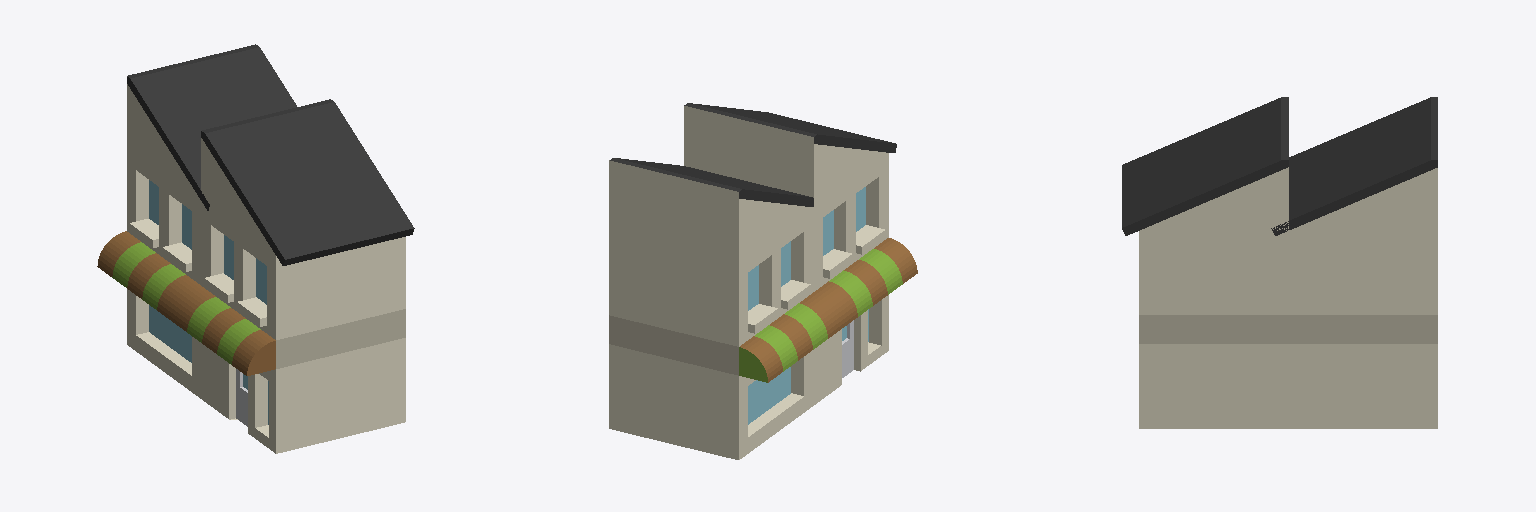
Rendered from Shop.obj.
3 renders of one model, left to right at view 1: azimuth 30°, elevation 25°; view 2: azimuth 150°, elevation 25°; view 3: azimuth 270°, elevation 25°, orthographic.
Visible parts, largest first — view 1: Mesh1_Group1_Model.442_Mesh1_Group1_Model.458; view 2: Mesh1_Group1_Model.442_Mesh1_Group1_Model.458; view 3: Mesh1_Group1_Model.442_Mesh1_Group1_Model.458.
Part boxes in pixels (left/top/right/bottom): Mesh1_Group1_Model.442_Mesh1_Group1_Model.458: left=97, top=44, right=414, bottom=453; Mesh1_Group1_Model.442_Mesh1_Group1_Model.458: left=609, top=103, right=917, bottom=459; Mesh1_Group1_Model.442_Mesh1_Group1_Model.458: left=1122, top=97, right=1437, bottom=428.
Bounding box in the file's own units: 2.37 × 3.83 × 4.1.